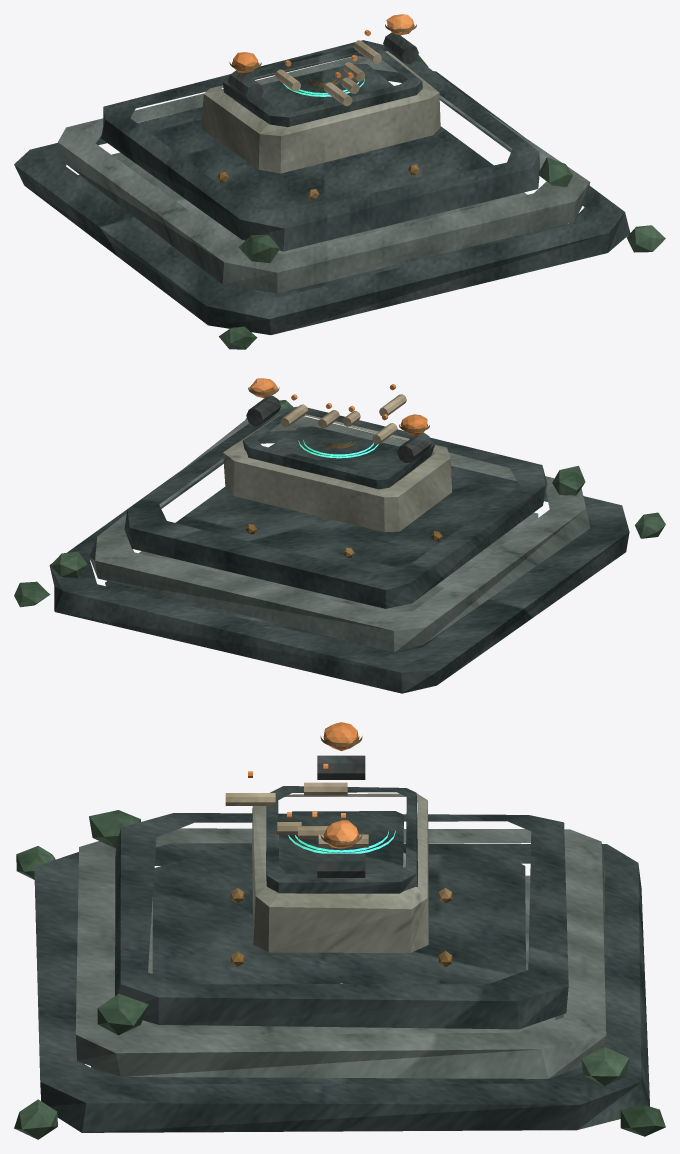
File: 0474_altar_24.glb
3 renders of one model, top to bottom at view 1: azimuth 30°, elevation 25°; view 2: azimuth 150°, elevation 25°; view 3: azimuth 270°, elevation 25°, orthographic. The views are drawn at different scales.
Visible parts, largest first — view 1: stone_dark, stone, stone_light, moss, bone, iron, amber, brass; view 2: stone_dark, stone, stone_light, moss, bone, iron, amber, brass; view 3: stone_dark, stone, stone_light, moss, iron, bone, amber, brass.
Boxes of the visible parts, x1=… form: stone_dark: x1=14, y1=40, x2=630, y2=334; stone: x1=58, y1=56, x2=590, y2=293; stone_light: x1=201, y1=51, x2=440, y2=173; moss: x1=219, y1=55, x2=665, y2=349; bone: x1=275, y1=40, x2=381, y2=106; iron: x1=228, y1=32, x2=418, y2=101; amber: x1=232, y1=14, x2=413, y2=78; brass: x1=217, y1=24, x2=419, y2=199; stone_dark: x1=49, y1=406, x2=629, y2=693; stone: x1=89, y1=416, x2=590, y2=652; stone_light: x1=223, y1=414, x2=451, y2=532; moss: x1=14, y1=400, x2=665, y2=607; bone: x1=280, y1=394, x2=406, y2=444; iron: x1=246, y1=395, x2=431, y2=463; amber: x1=249, y1=378, x2=427, y2=435; brass: x1=245, y1=387, x2=442, y2=557; stone_dark: x1=34, y1=786, x2=649, y2=1132; stone: x1=75, y1=828, x2=606, y2=1078; stone_light: x1=252, y1=793, x2=428, y2=952; moss: x1=14, y1=810, x2=665, y2=1139; iron: x1=317, y1=755, x2=365, y2=877; bone: x1=225, y1=782, x2=368, y2=847; amber: x1=248, y1=722, x2=358, y2=848; brass: x1=230, y1=736, x2=452, y2=983.
Bounding box in the file's own units: 3.26 × 1.28 × 3.26.
Materials: 9 (9 with a texture image).
